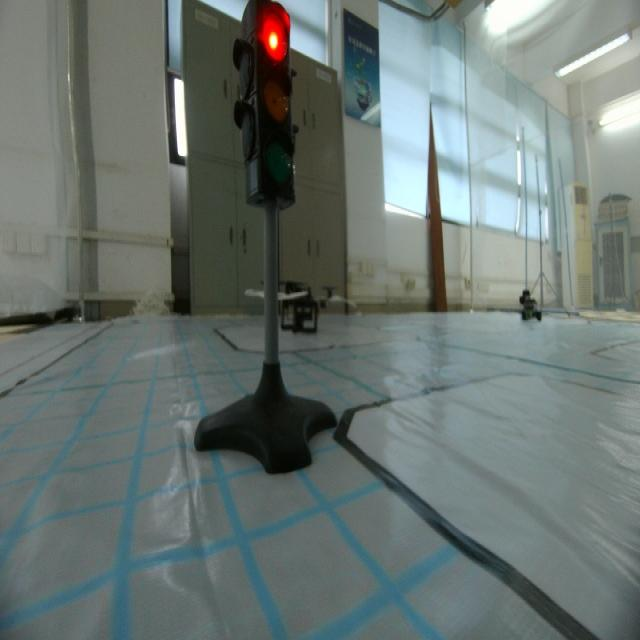red: (230, 0, 307, 218)
